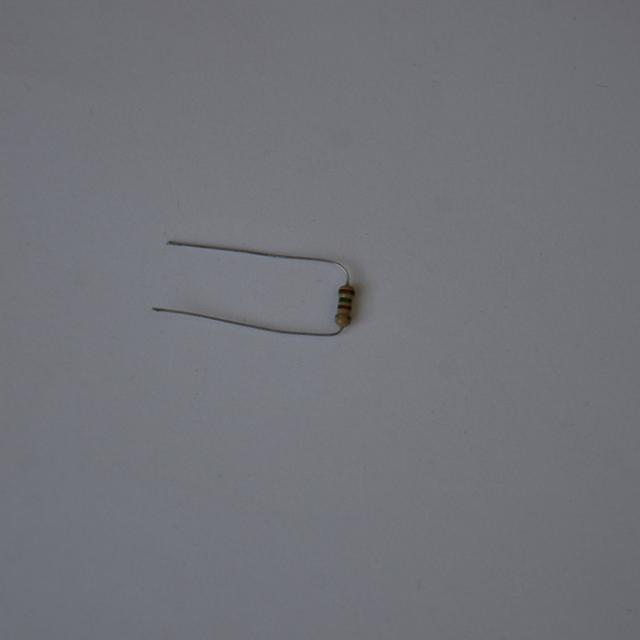brown: (340, 289, 354, 294), (337, 304, 350, 309)
gold: (336, 314, 350, 321)
green: (339, 296, 351, 302)
resistor: (329, 280, 365, 332)
